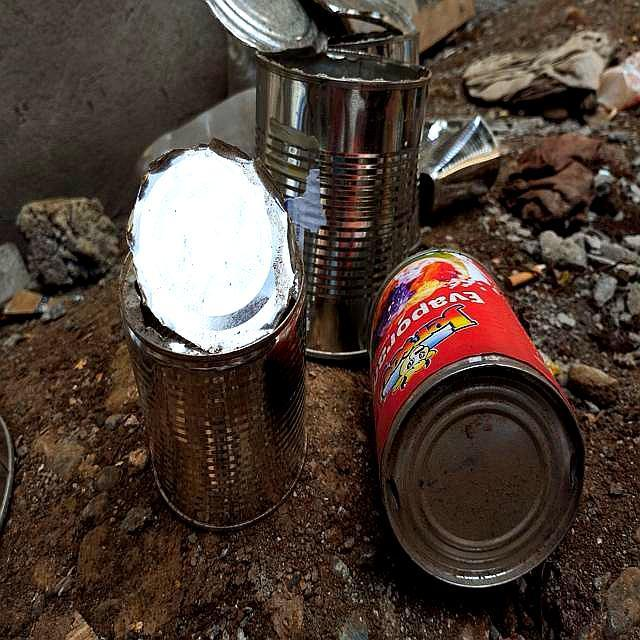Non-biodegradable: (206, 1, 432, 366), (369, 250, 585, 592), (124, 139, 311, 534)
